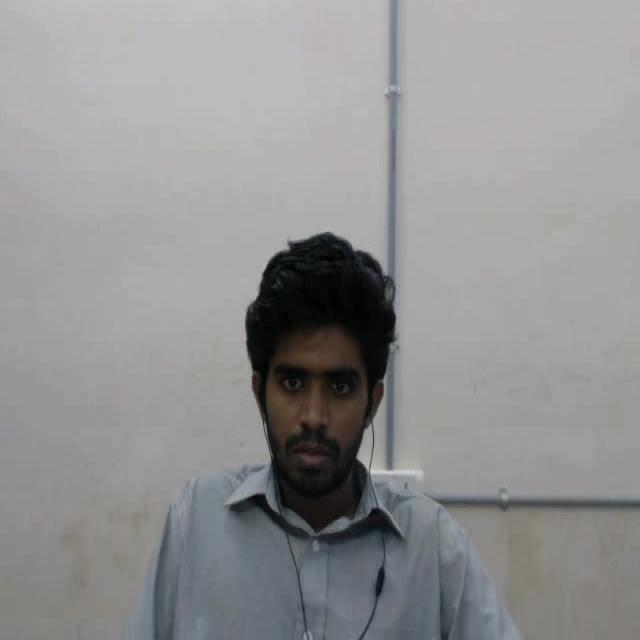Engaged: (222, 212, 420, 543)
